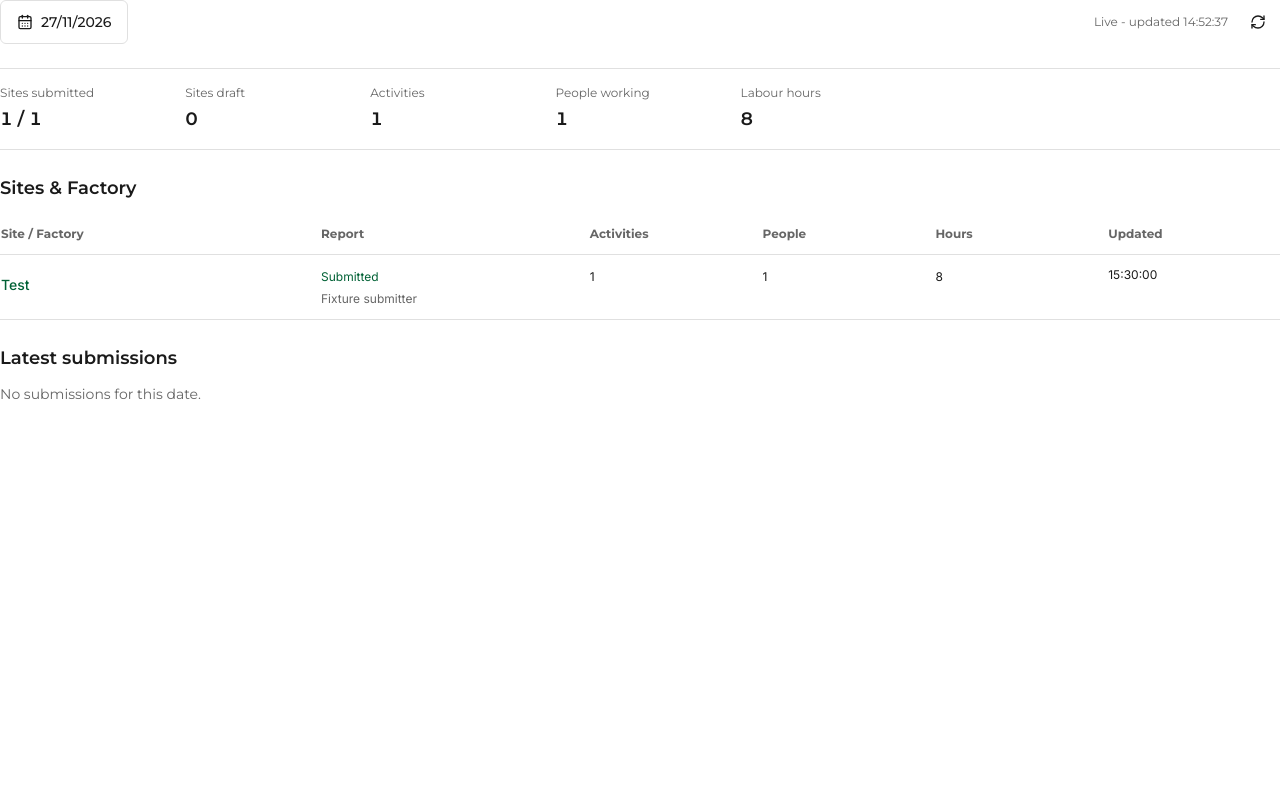
Test: Daily read behavior › renders no cost amounts when the server omits cost keys
Click the button "Test".
click(15, 284)  # box [1,263,312,307]
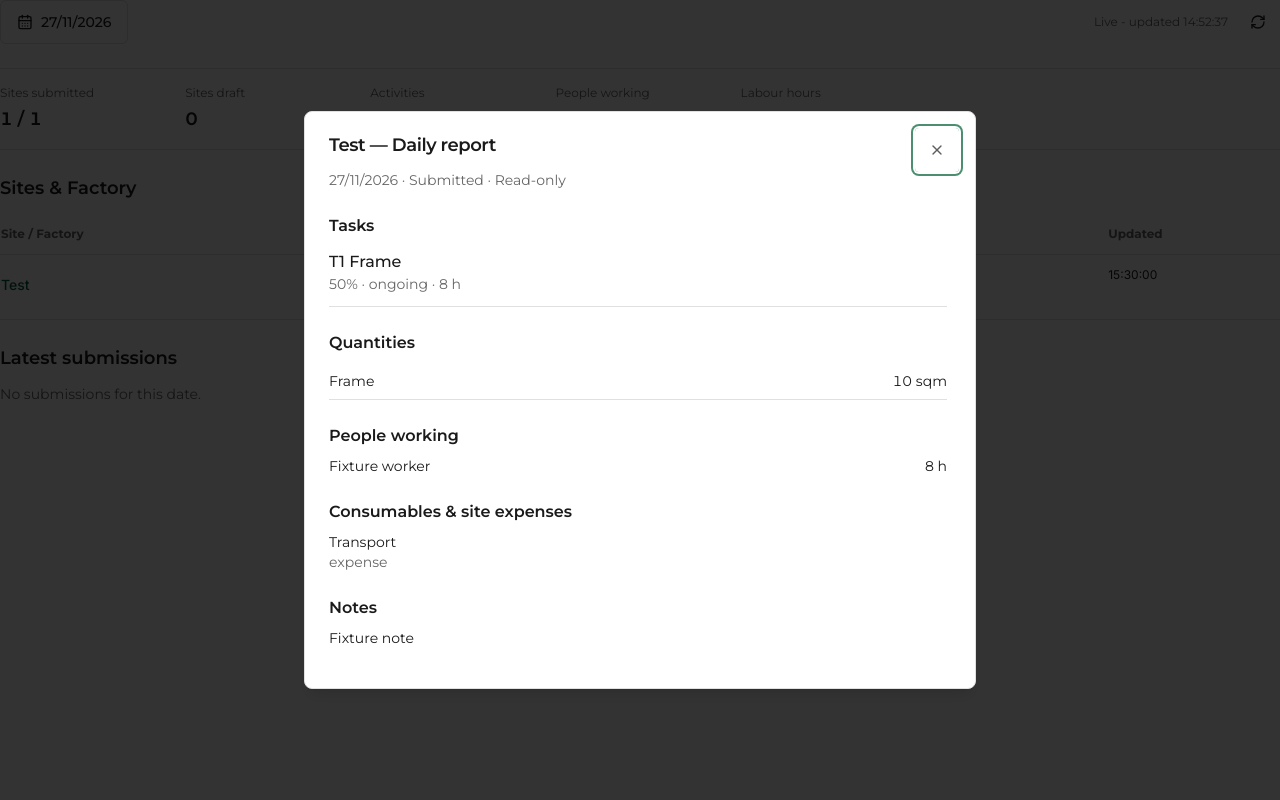
Expected: the dialog is shown, [304,111,976,689]
